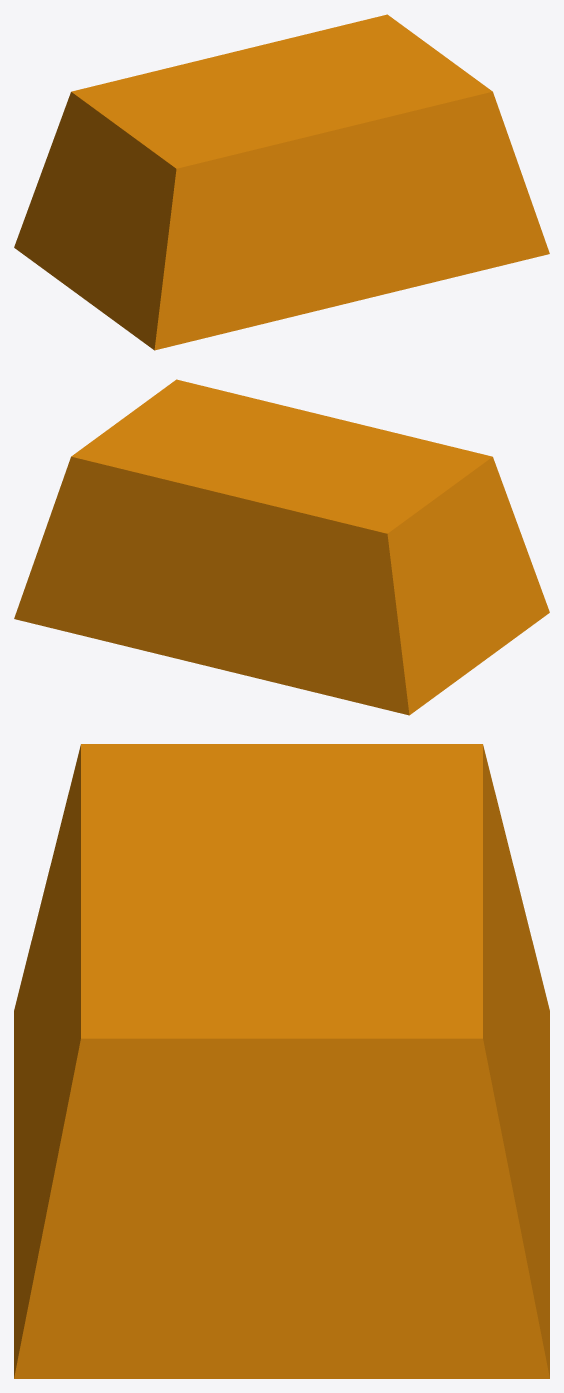
The model's file is gold.glb.
3 views of the same model, one above another, from view 1: azimuth 30°, elevation 25°; view 2: azimuth 150°, elevation 25°; view 3: azimuth 270°, elevation 25° (orthographic). The views are drawn at different scales.
Visible parts, largest first — view 1: gold; view 2: gold; view 3: gold.
Boxes of the visible parts, x1,y1,x2,y2 form: gold: (14, 14, 549, 350); gold: (14, 379, 549, 715); gold: (14, 744, 549, 1378).
Bounding box in the file's own units: 0.13 × 0.05 × 0.08.
Materials: 1 (1 with a texture image).
